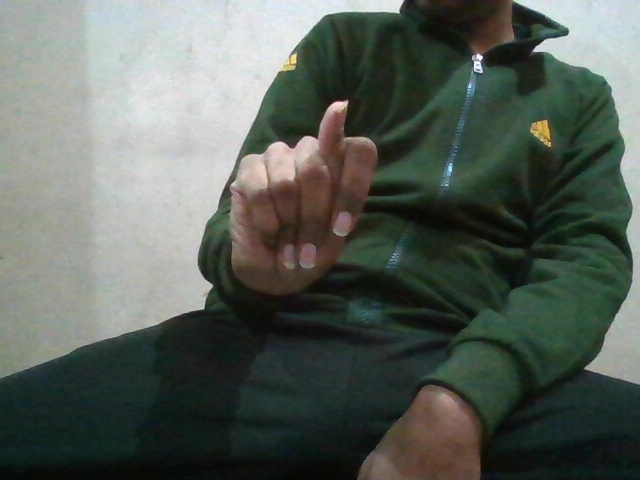T: (228, 109, 370, 293)
